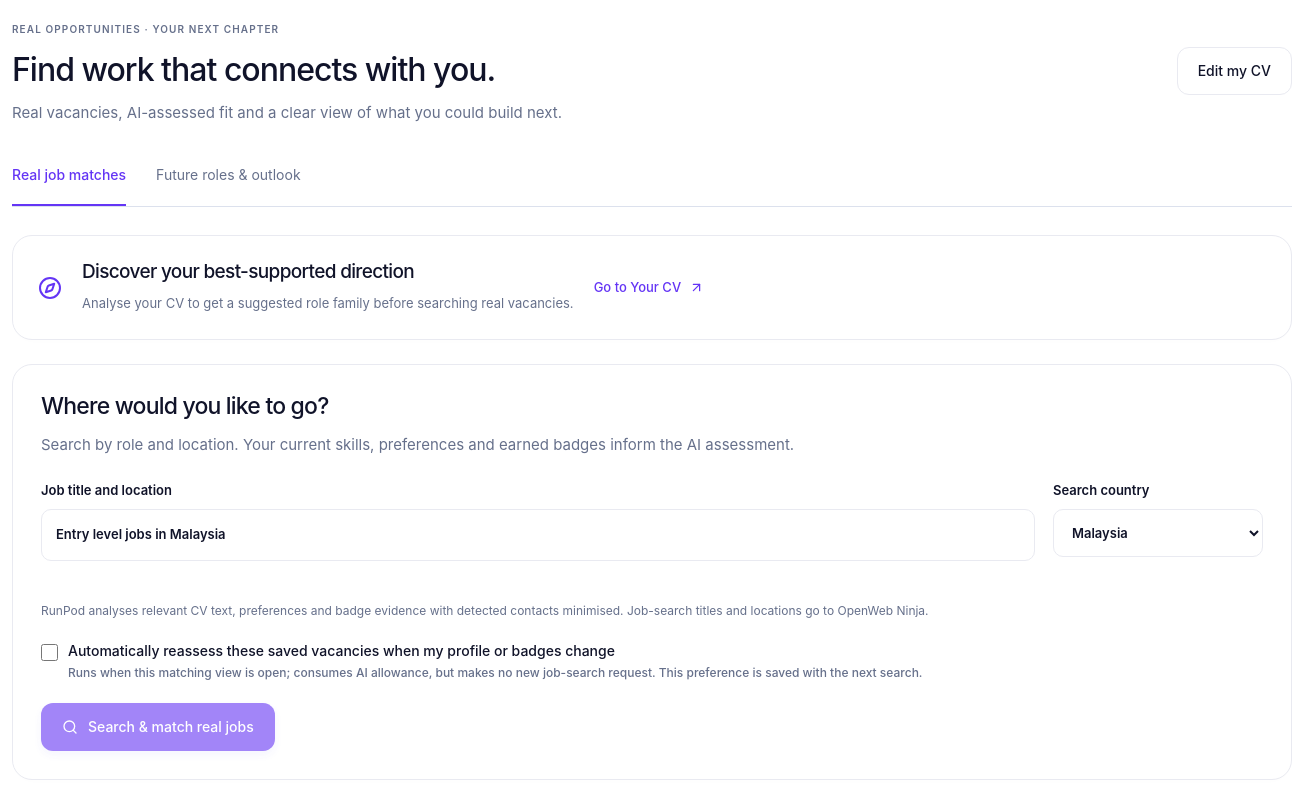
initialises the horizon from the saved outlook and labels a changed horizon clearly
Click the tab "Future roles & outlook" at (228, 182), box x1=156 y1=158 x2=301 y2=206
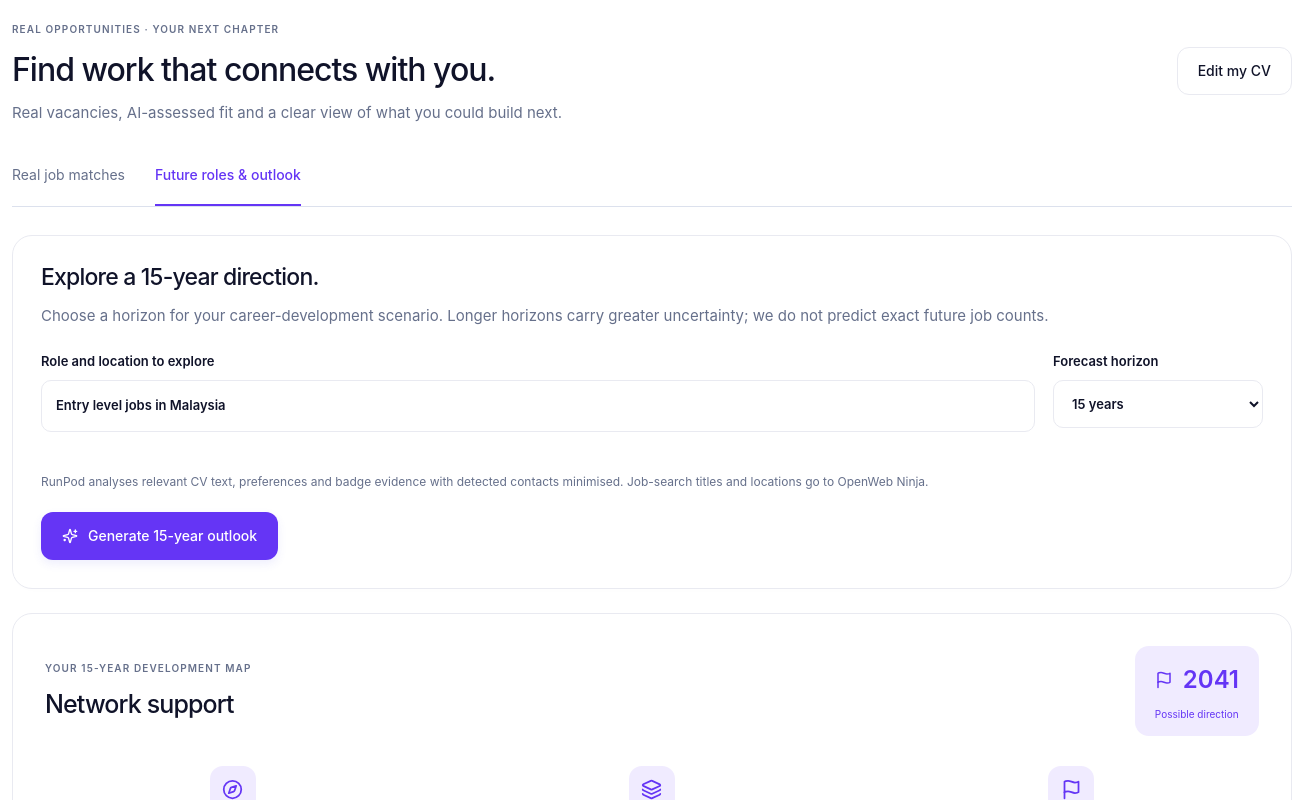
Expected: the dropdown labelled "Forecast horizon" shows "15 years"
Select "10 years" in the dropdown labelled "Forecast horizon" at (1158, 404), box x1=1053 y1=380 x2=1263 y2=428
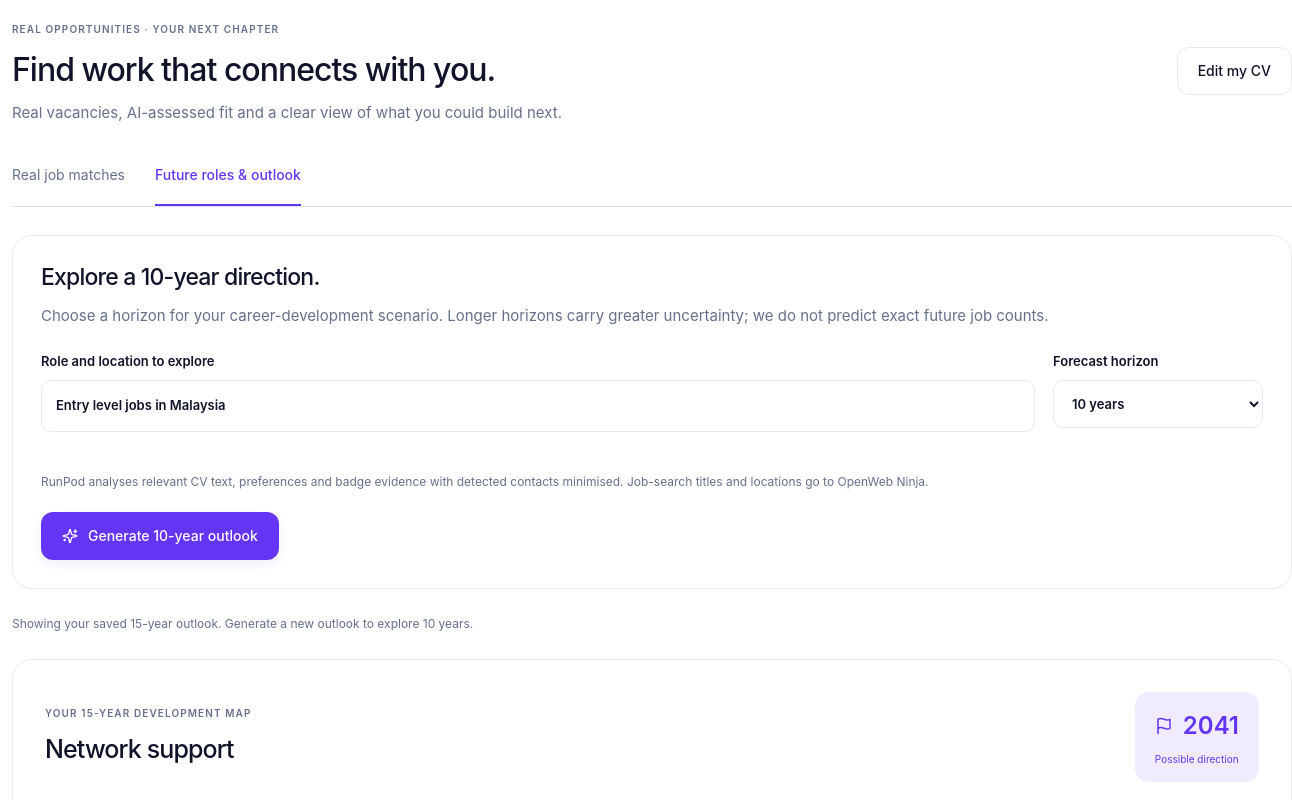
Expected: the text "YOUR 15-YEAR DEVELOPMENT MAP" is shown, x1=45 y1=708 x2=252 y2=720
Expected: the text "Showing your saved 15-year outlook" is shown, x1=12 y1=616 x2=473 y2=631
